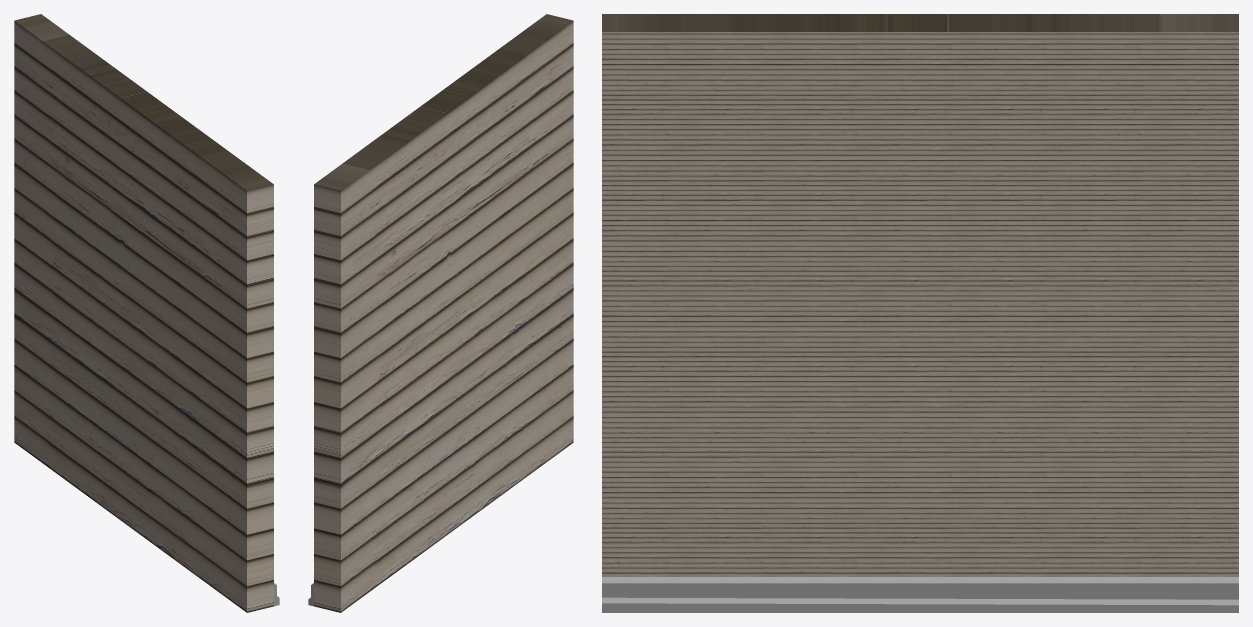
File: WallBase2.fbx
3 renders of one model, left to right at view 1: azimuth 30°, elevation 25°; view 2: azimuth 150°, elevation 25°; view 3: azimuth 270°, elevation 25°, orthographic. The views are drawn at different scales.
Visible parts, largest first — view 1: pCube1; view 2: pCube1; view 3: pCube1.
Boxes of the visible parts, x1,y1,x2,y2 form: pCube1: [14, 14, 279, 612]; pCube1: [308, 14, 573, 612]; pCube1: [602, 14, 1238, 612].
Size of the model in its own units: 0.2421 by 3 by 3.
